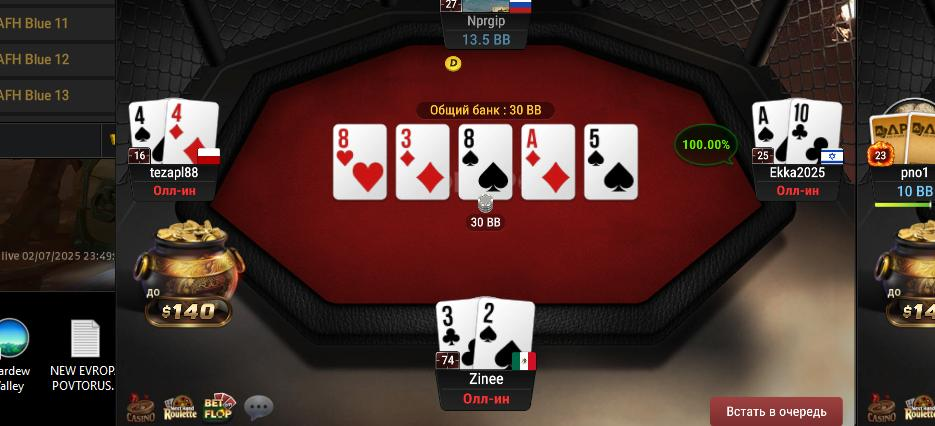10c: (790, 99, 842, 165)
2s: (479, 295, 536, 371)
3c: (437, 302, 477, 371)
3d: (396, 125, 449, 200)
4d: (165, 98, 219, 165)
4s: (128, 100, 165, 165)
5s: (584, 125, 637, 198)
8h: (333, 126, 387, 200)
8s: (459, 125, 512, 199)
Ad: (522, 125, 573, 199)
As: (753, 102, 791, 164)
